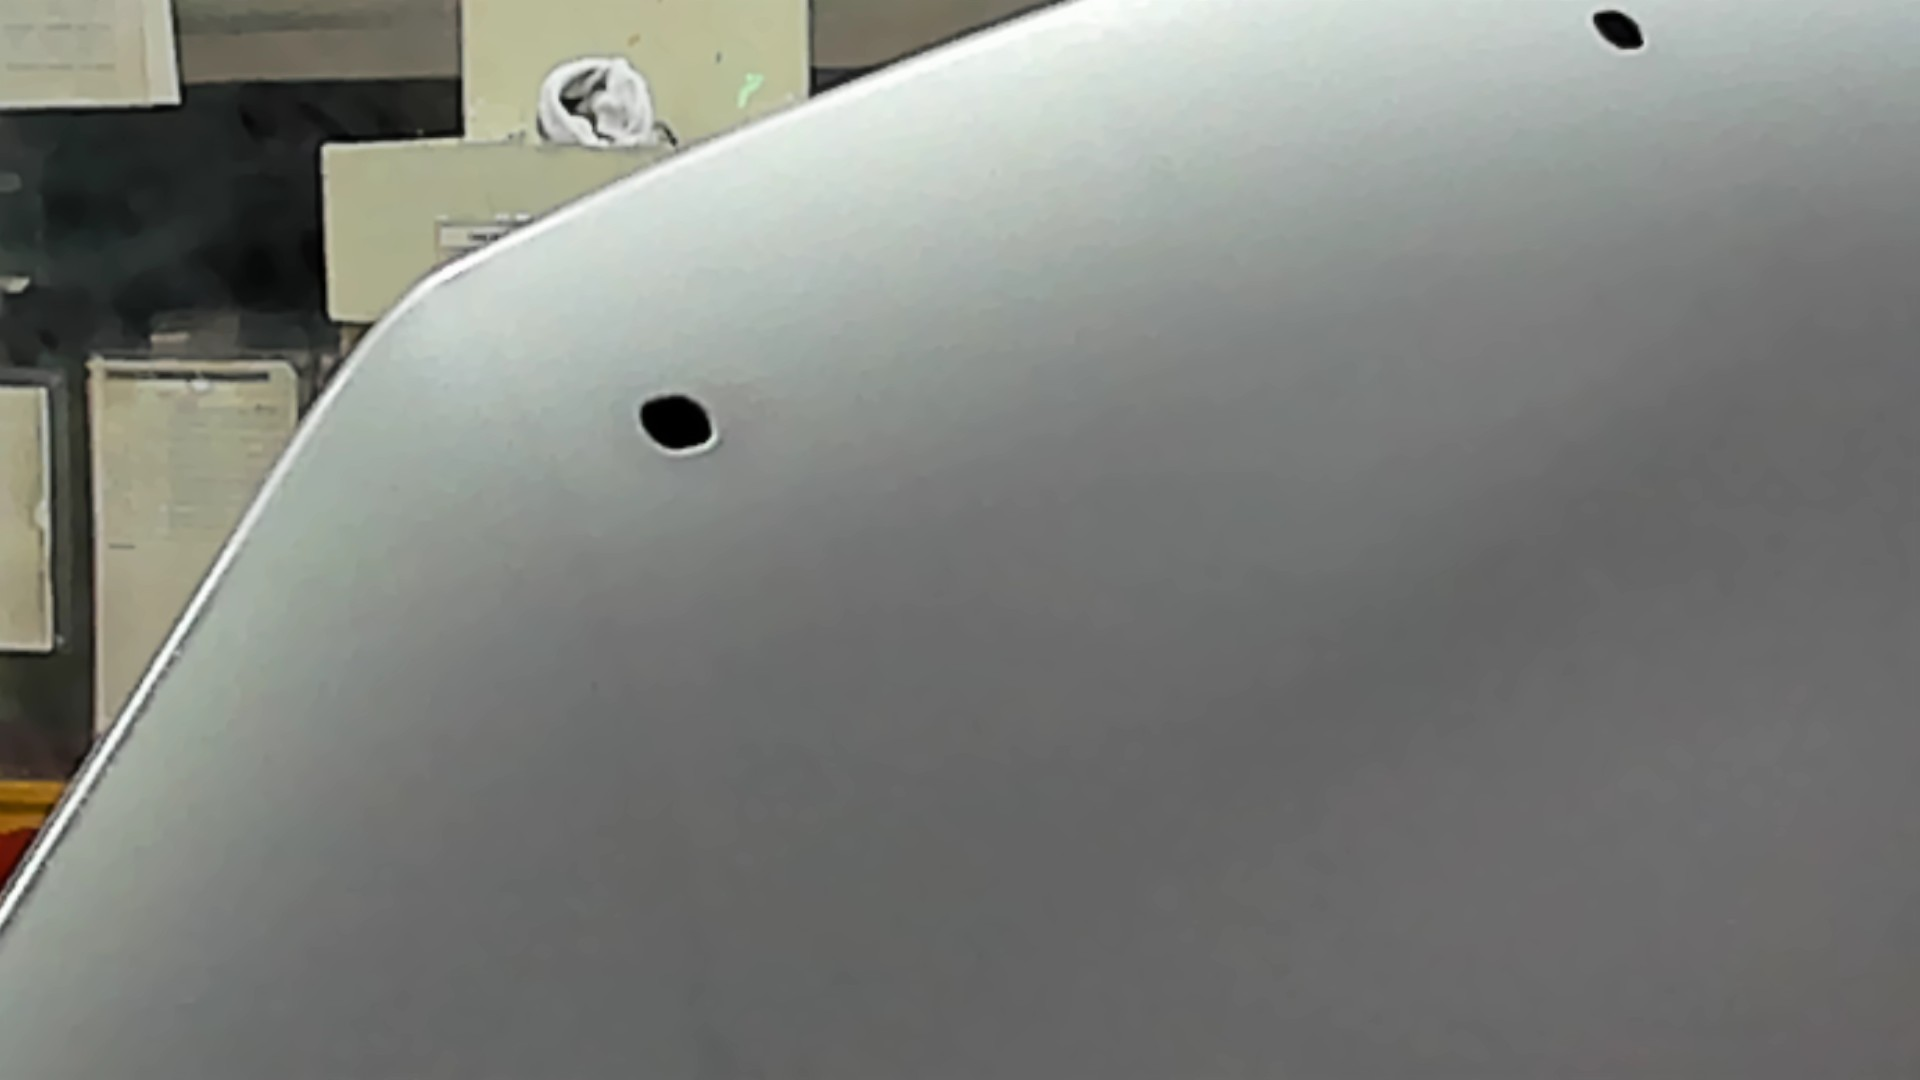chico: (624, 377, 736, 469), (1582, 1, 1663, 63)
